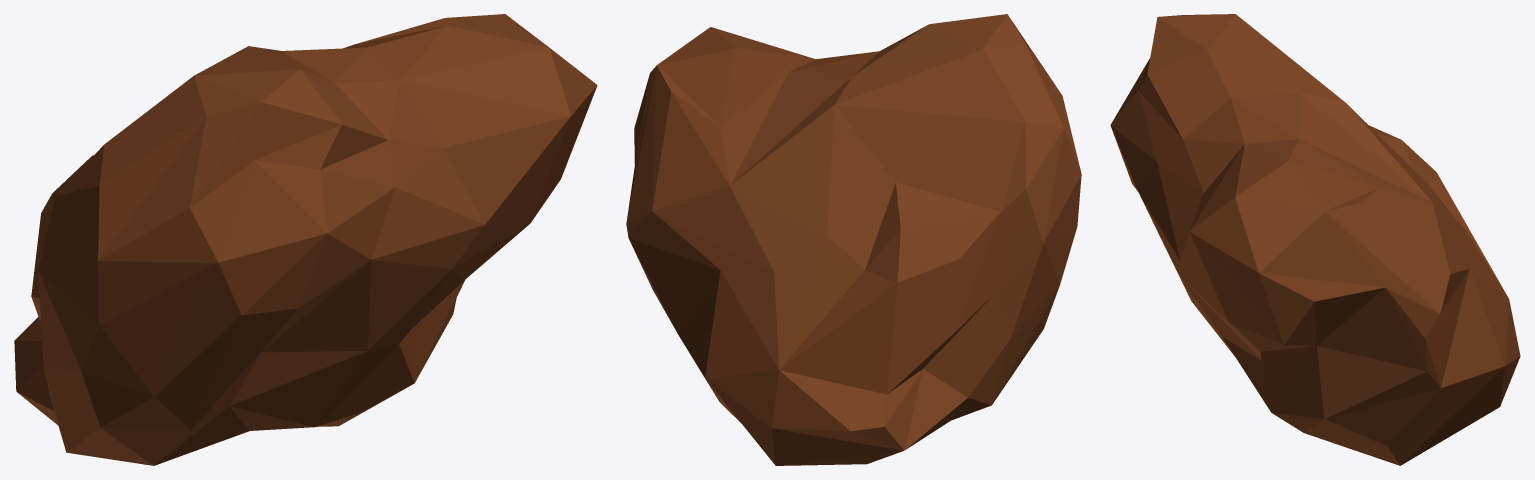
The model's file is Asteroide1.fbx.
The picture shows the model from 3 angles, left to right: view 1: azimuth 30°, elevation 25°; view 2: azimuth 150°, elevation 25°; view 3: azimuth 270°, elevation 25°; orthographic projection. The views are drawn at different scales.
Visible parts, largest first — view 1: Asteroide1; view 2: Asteroide1; view 3: Asteroide1.
Boxes of the visible parts, x1,y1,x2,y2 form: Asteroide1: (14,14,597,465); Asteroide1: (626,14,1081,465); Asteroide1: (1110,14,1520,465).
Bounding box in the file's own units: 5.73 × 4.91 × 4.79.
